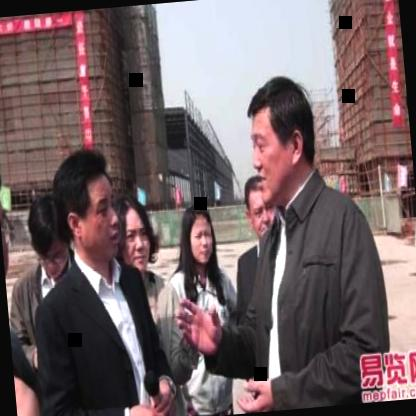head: (240, 68, 322, 200), (52, 145, 120, 266), (25, 190, 69, 276), (114, 190, 158, 274), (179, 198, 221, 271), (237, 170, 274, 244)
